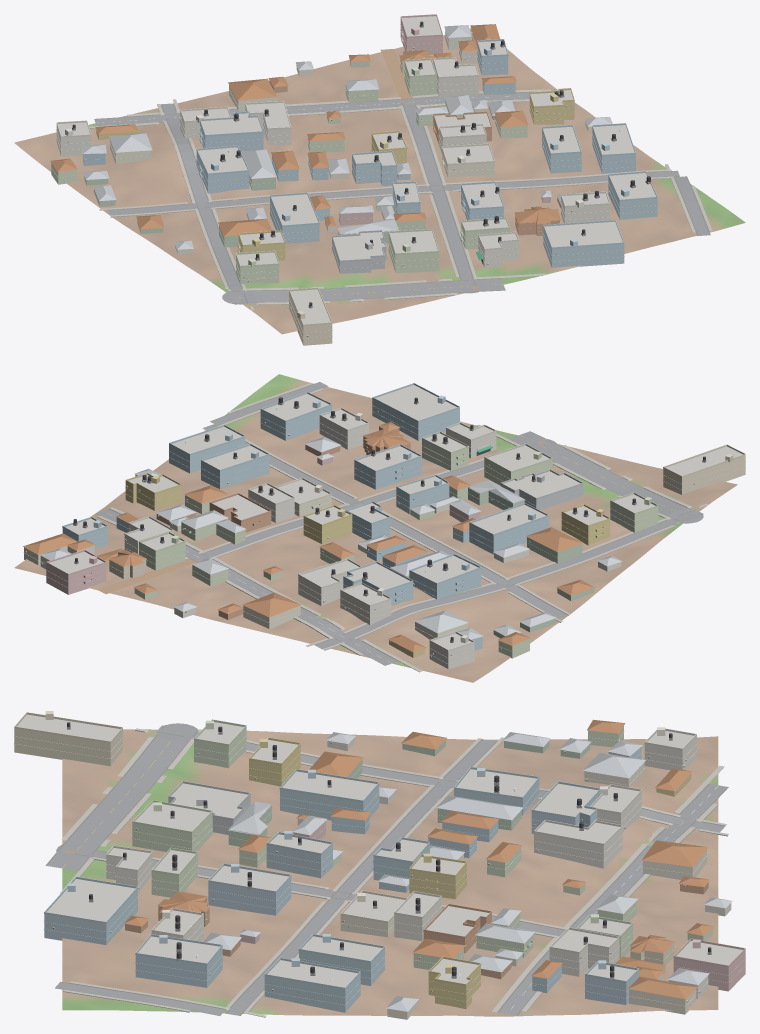
3 views of the same model, one above another, from view 1: azimuth 30°, elevation 25°; view 2: azimuth 150°, elevation 25°; view 3: azimuth 270°, elevation 25° (orthographic). The views are drawn at different scales.
Visible parts, largest first — view 1: Buildings-col, Terrain-col, Roads-col, Details, Sidewalks-col; view 2: Buildings-col, Terrain-col, Details, Roads-col, Sidewalks-col; view 3: Buildings-col, Terrain-col, Details, Roads-col, Sidewalks-col.
Boxes of the visible parts, bbox=[...] form: Buildings-col: bbox=[50, 16, 657, 345]; Terrain-col: bbox=[14, 28, 745, 334]; Roads-col: bbox=[94, 49, 710, 304]; Details: bbox=[51, 14, 657, 339]; Sidewalks-col: bbox=[89, 89, 712, 310]; Buildings-col: bbox=[23, 385, 745, 668]; Terrain-col: bbox=[14, 374, 737, 682]; Details: bbox=[23, 383, 745, 664]; Roads-col: bbox=[95, 382, 703, 665]; Sidewalks-col: bbox=[97, 383, 708, 672]; Buildings-col: bbox=[14, 714, 745, 1019]; Terrain-col: bbox=[62, 729, 718, 1016]; Details: bbox=[14, 711, 745, 1006]; Roads-col: bbox=[45, 723, 728, 1015]; Sidewalks-col: bbox=[60, 728, 728, 1017].
Bounding box in the file's own units: 265 × 17.42 × 286.
